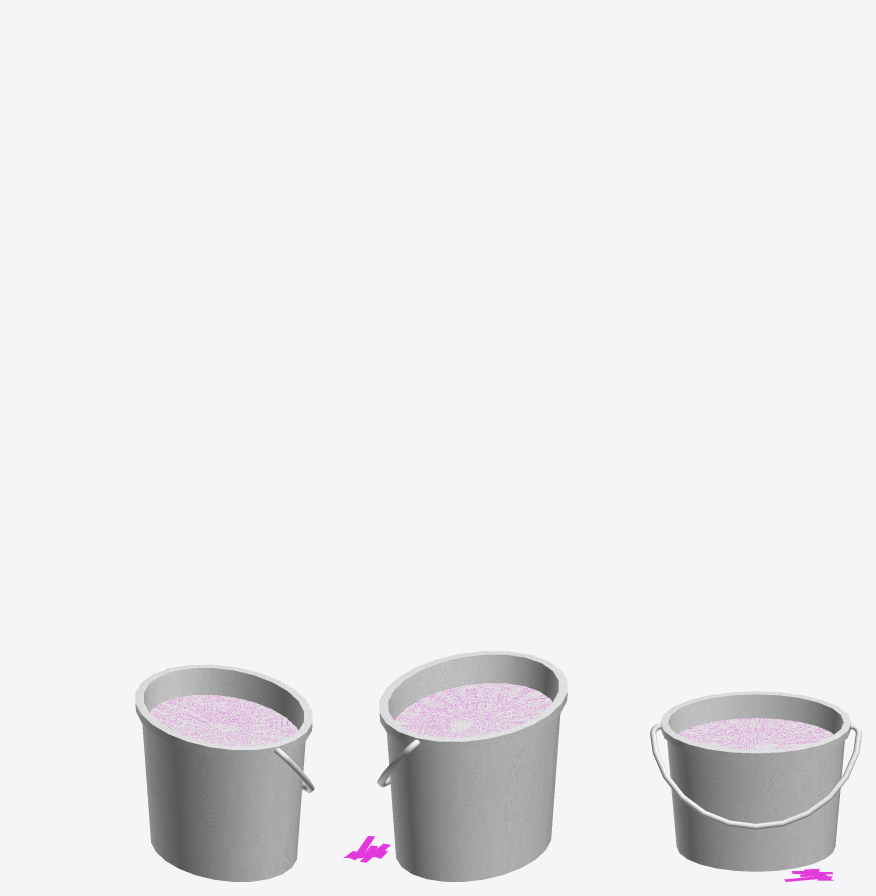
File: paintbucket.dae
3 views of the same model, side by side, from view 1: azimuth 30°, elevation 25°; view 2: azimuth 150°, elevation 25°; view 3: azimuth 270°, elevation 25° (orthographic). The views are drawn at different scales.
Parts seen in each view (by area): view 1: group_0.006, group_0.001; view 2: group_0.006, group_0.001, group_0; view 3: group_0.006, group_0.001, group_0.005.
Boxes of the visible parts, <box> form: group_0.006: <box>135,664,312,881</box>; group_0.001: <box>149,694,298,745</box>; group_0.006: <box>379,651,567,881</box>; group_0.001: <box>394,683,552,737</box>; group_0: <box>343,836,390,862</box>; group_0.006: <box>660,691,851,871</box>; group_0.001: <box>678,718,833,749</box>; group_0.005: <box>650,723,861,829</box>.
Size of the model in its own units: 0.2858 by 0.2291 by 0.9031.
